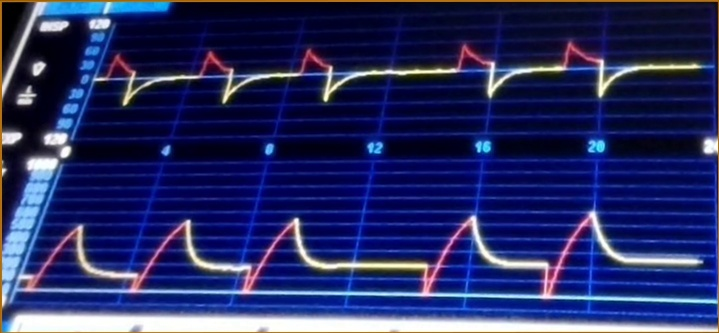Flow: (107, 32, 702, 132)
Leakage Volume: (43, 195, 680, 307)
